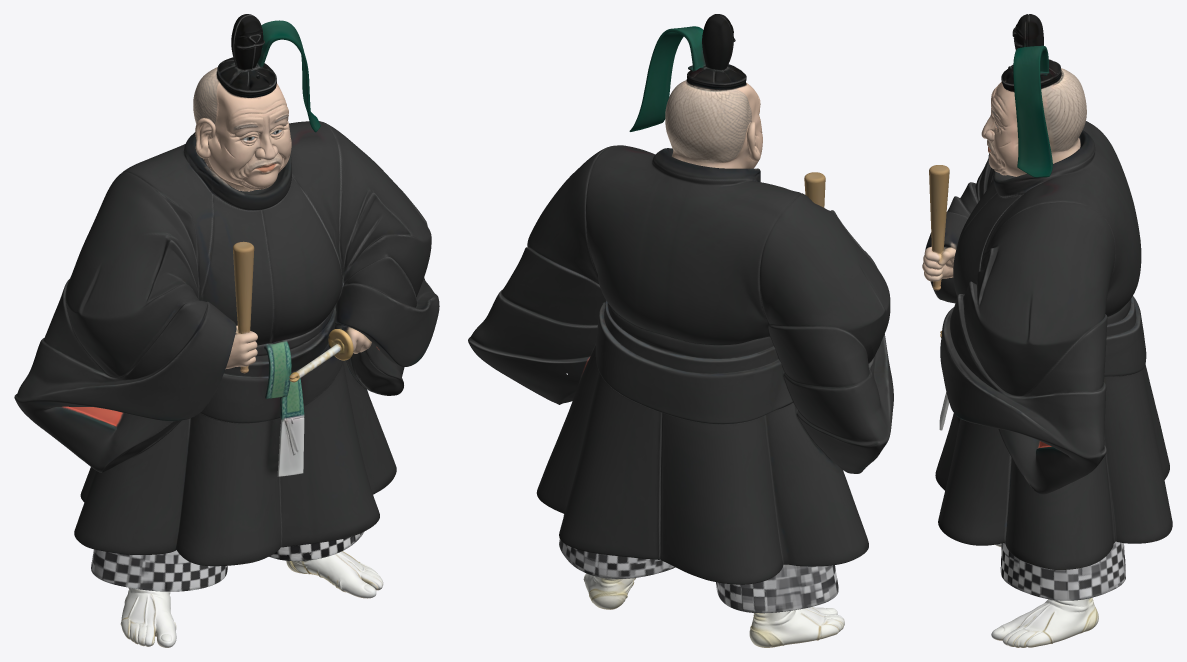
Rendered from udaijin-original.glb.
3 renders of one model, left to right at view 1: azimuth 30°, elevation 25°; view 2: azimuth 150°, elevation 25°; view 3: azimuth 270°, elevation 25°, orthographic. The views are drawn at different scales.
Visible parts, largest first — view 1: tripo_node_9048570d-c4d9-44c0-94ae-1060b24a4e35; view 2: tripo_node_9048570d-c4d9-44c0-94ae-1060b24a4e35; view 3: tripo_node_9048570d-c4d9-44c0-94ae-1060b24a4e35.
Part boxes in pixels (left/top/right/bottom): tripo_node_9048570d-c4d9-44c0-94ae-1060b24a4e35: left=14, top=14, right=439, bottom=647; tripo_node_9048570d-c4d9-44c0-94ae-1060b24a4e35: left=468, top=14, right=893, bottom=647; tripo_node_9048570d-c4d9-44c0-94ae-1060b24a4e35: left=922, top=14, right=1172, bottom=647.
Bounding box in the file's own units: 0.7159 × 0.979 × 0.3866.
Materials: 1 (1 with a texture image).
